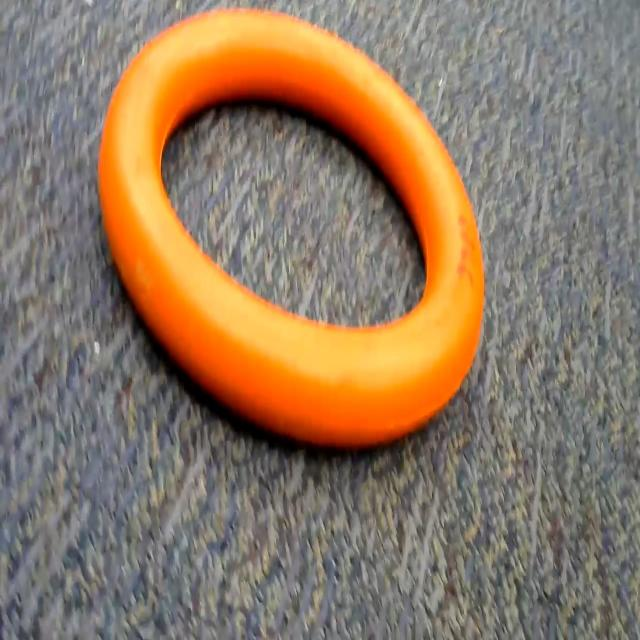note: (68, 2, 528, 467)
